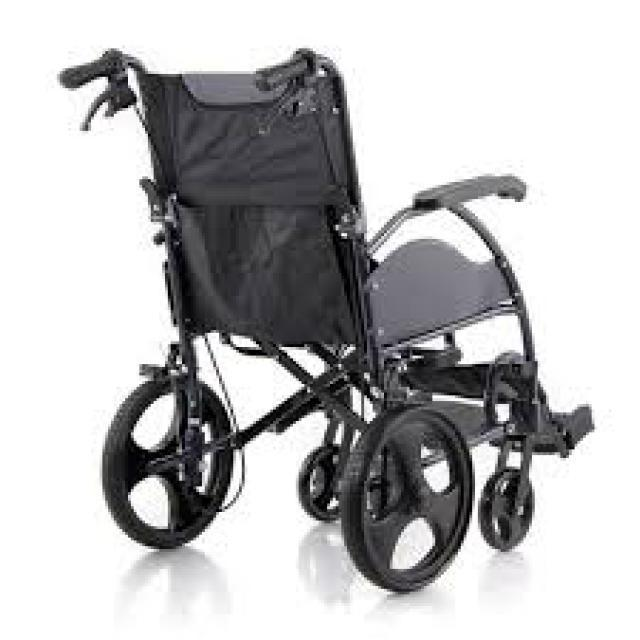wheelchairs: (61, 44, 588, 591)
